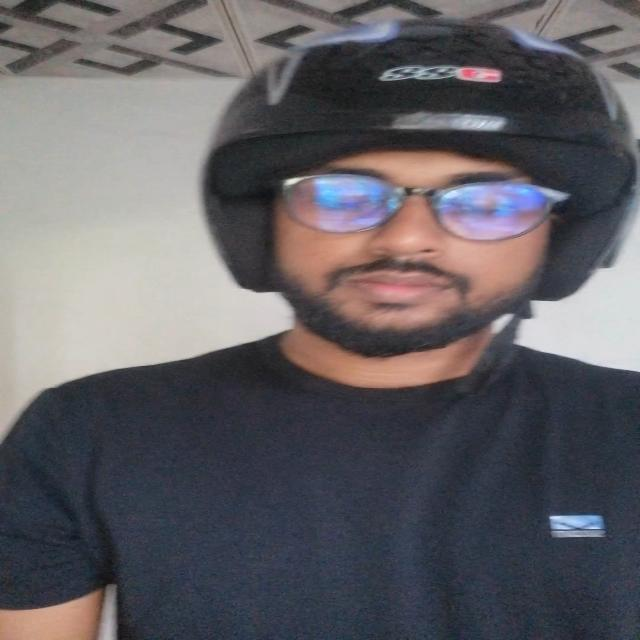Helmet_Wearer: (138, 0, 640, 421)
Person: (16, 0, 638, 640)
